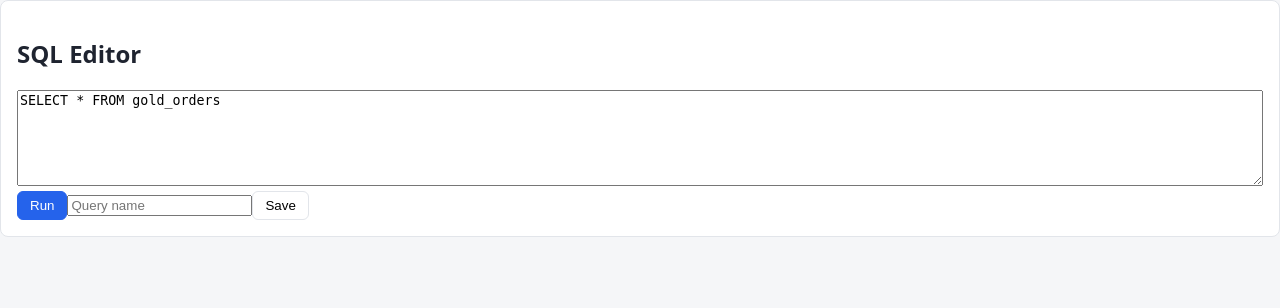
Test: SqlEditor › saves a query
Type "revenue" into the field with placeholder "Query name".
click(160, 205); type("revenue")  # box [68, 195, 252, 216]
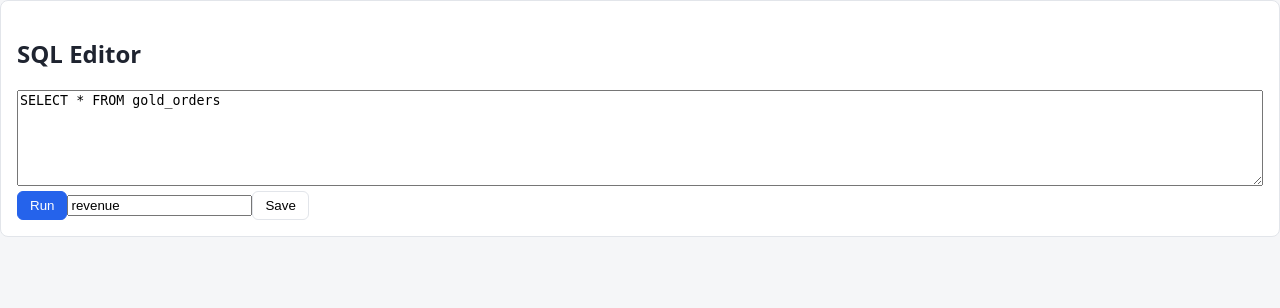
Click the button "Save".
click(281, 205)  # box [252, 191, 309, 220]
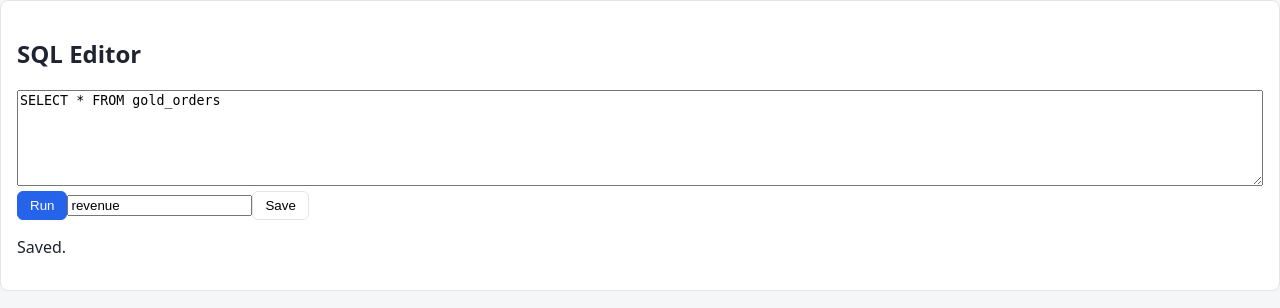
Check: the text "Saved." is shown, box [17, 236, 66, 258]
